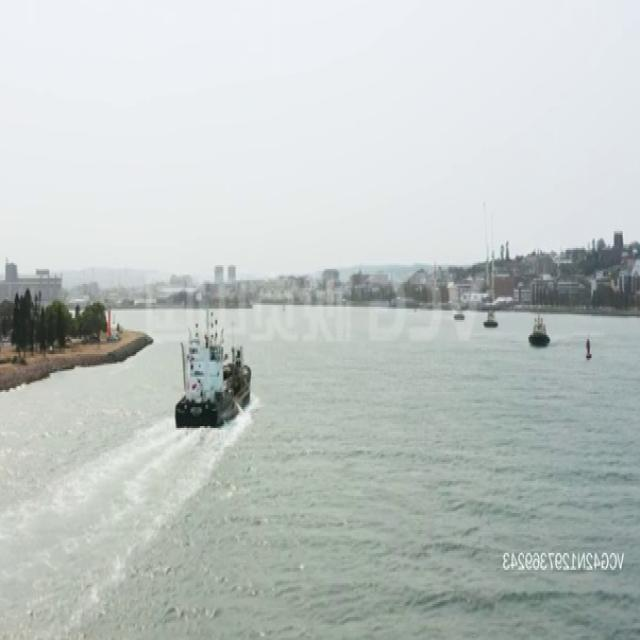houseboat: (174, 295, 252, 430), (529, 314, 551, 346), (483, 308, 498, 330), (454, 300, 468, 320)
